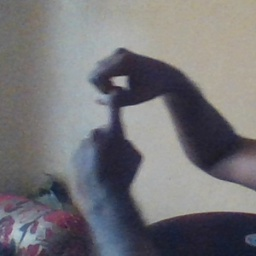Q: (73, 43, 165, 187)
